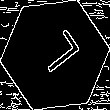L_SW: (28, 28, 82, 82)
